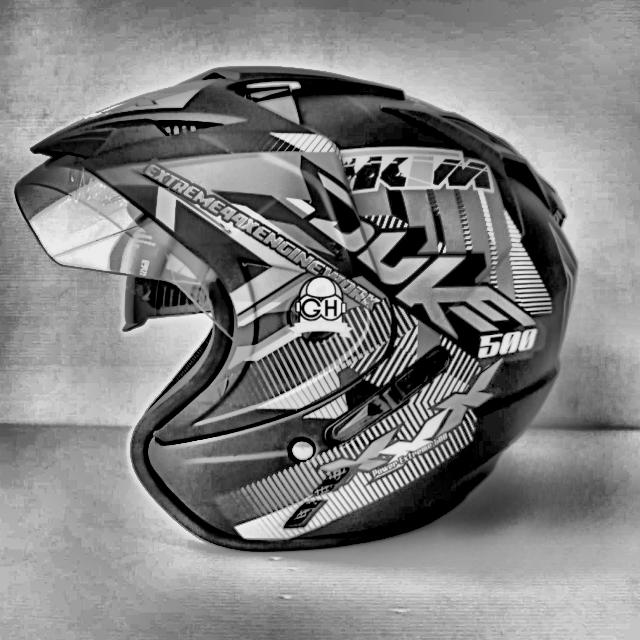Helmet: (16, 68, 582, 556)
